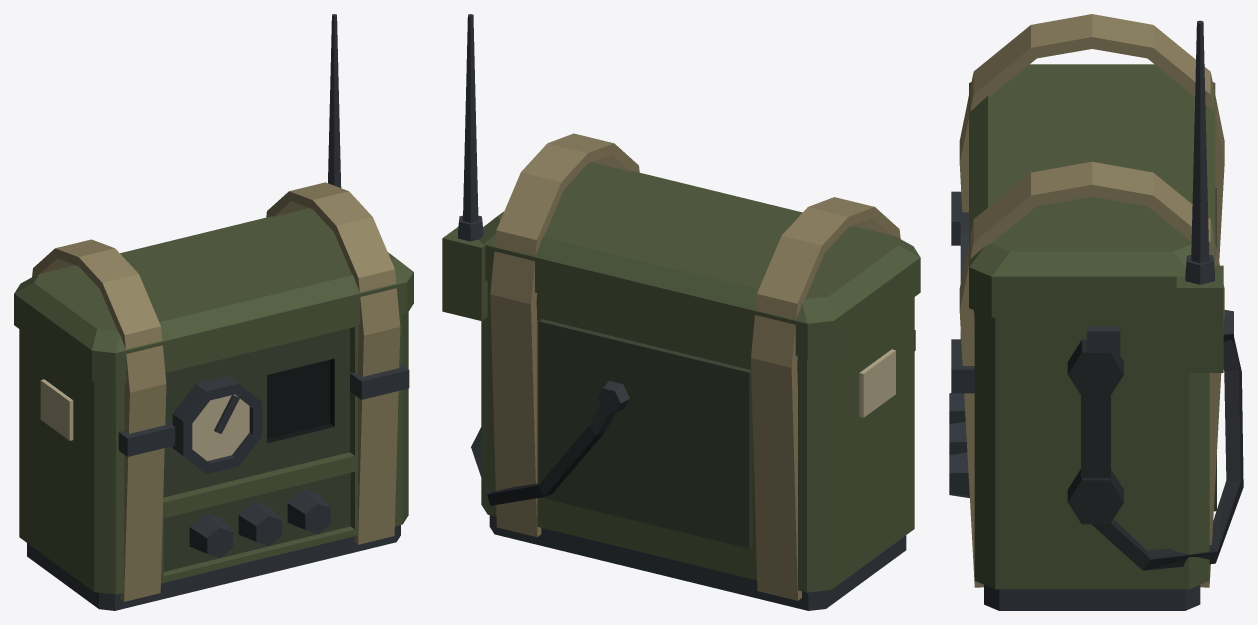
File: field-radio-set-b6f3fd.glb
3 views of the same model, side by side, from view 1: azimuth 30°, elevation 25°; view 2: azimuth 150°, elevation 25°; view 3: azimuth 270°, elevation 25° (orthographic). The views are drawn at different scales.
Parts seen in each view (by area): view 1: radio-case; view 2: radio-case, handset-mesh; view 3: radio-case, handset-mesh.
Part boxes in pixels (x1=…): radio-case: x1=14, y1=14, x2=413, y2=610; radio-case: x1=442, y1=14, x2=920, y2=610; handset-mesh: x1=471, y1=405, x2=615, y2=505; radio-case: x1=949, y1=14, x2=1233, y2=610; handset-mesh: x1=1067, y1=337, x2=1243, y2=570.
Size of the model in its own units: 0.544 by 0.7 by 0.3132.
